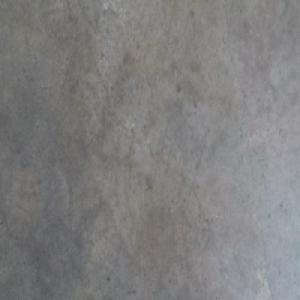Pliers: (188, 292, 199, 299)
